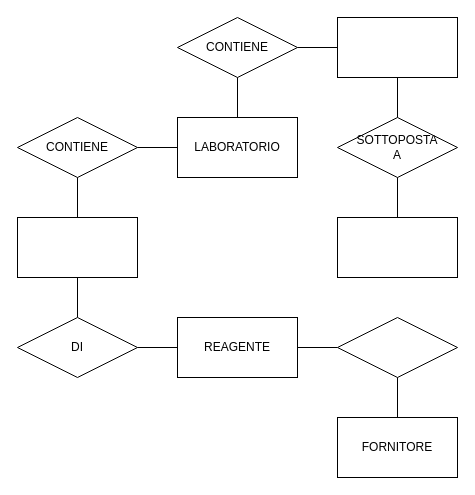
Image size: 475x495. Some labels were removed from this diagram. Here are the shapes that lost their labels. From the top down, the box of each, then its label:
(336, 16, 458, 78): STRUMENTAZIONE
(16, 216, 138, 278): STOCK
(336, 216, 458, 278): MANUTENZIONE
(336, 316, 458, 378): FORNISCE
